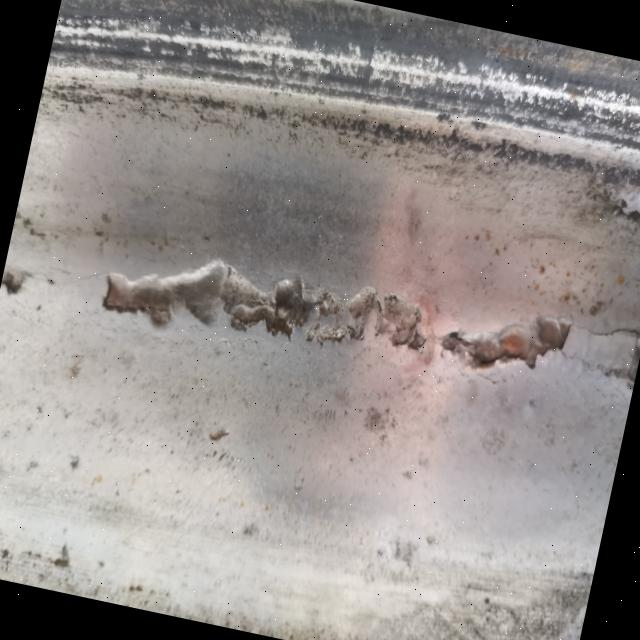Blue hole: (3, 263, 34, 305), (51, 540, 75, 572)
Contact_Fatigue_Cracks: (579, 317, 640, 360)
Peeling: (98, 239, 334, 359), (444, 299, 573, 390), (343, 281, 439, 355), (203, 428, 231, 448), (54, 482, 58, 487)
